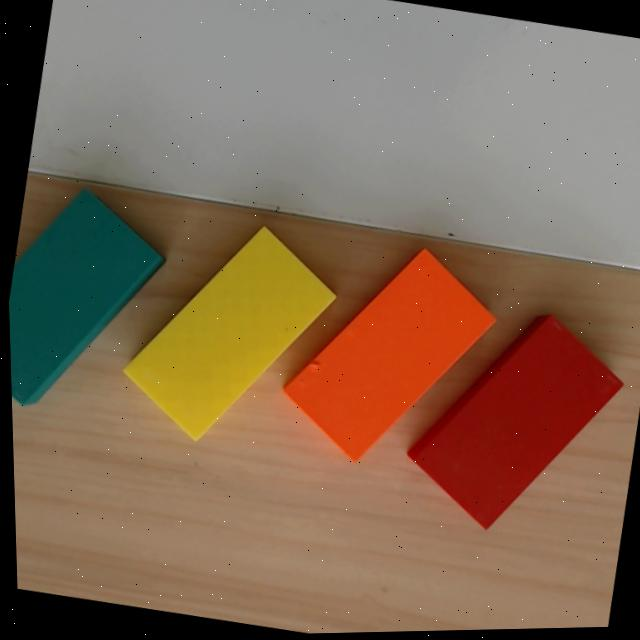Balok-Hijau-1005025: (0, 185, 165, 409)
Balok-Jingga-1005025: (280, 244, 497, 462)
Balok-Kuning-1005025: (120, 223, 337, 440)
Balok-Merah-1005025: (403, 305, 627, 530)
